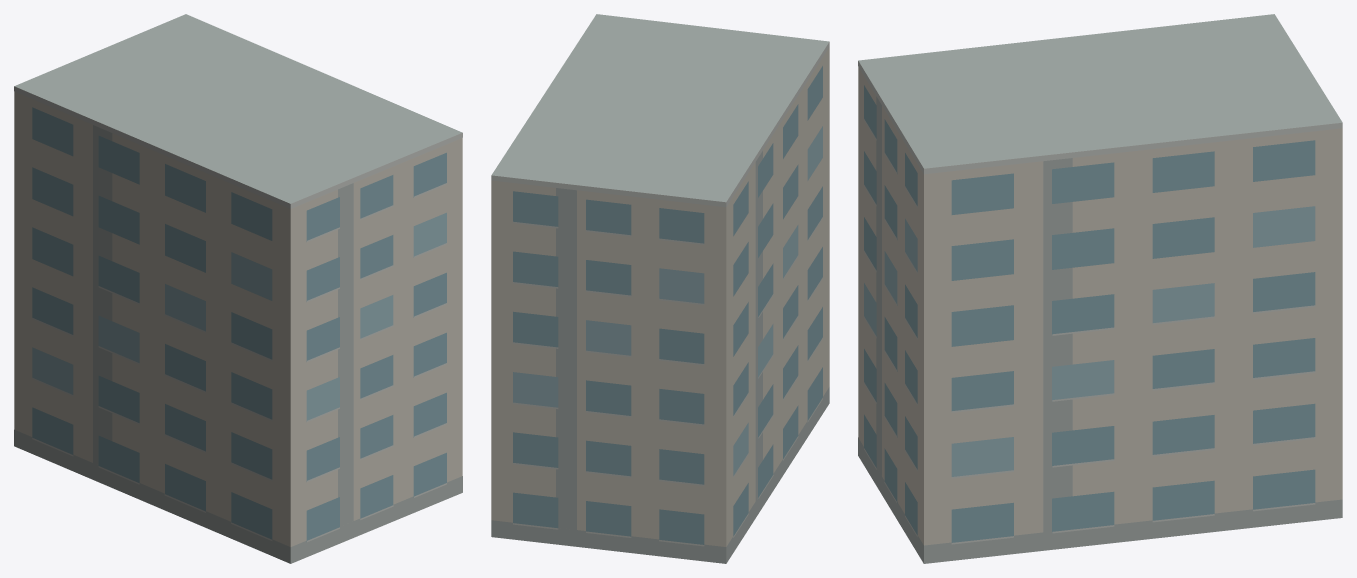
The model's file is survey-upis-32872584.glb.
The picture shows the model from 3 angles, left to right: view 1: azimuth 30°, elevation 25°; view 2: azimuth 150°, elevation 25°; view 3: azimuth 270°, elevation 25°; orthographic projection. The views are drawn at different scales.
Visible parts, largest first — view 1: survey-upis-32872584.tmp; view 2: survey-upis-32872584.tmp; view 3: survey-upis-32872584.tmp.
Boxes of the visible parts, x1,y1,x2,y2 form: survey-upis-32872584.tmp: (14, 14, 462, 563); survey-upis-32872584.tmp: (491, 14, 829, 563); survey-upis-32872584.tmp: (858, 14, 1342, 563).
Size of the model in its own units: 14.45 by 17.2 by 19.13.
